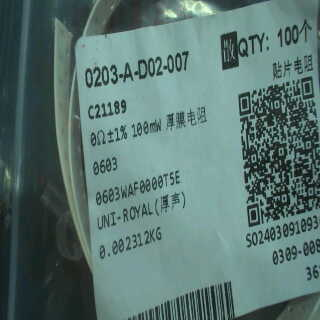0R: (88, 118, 165, 181)
